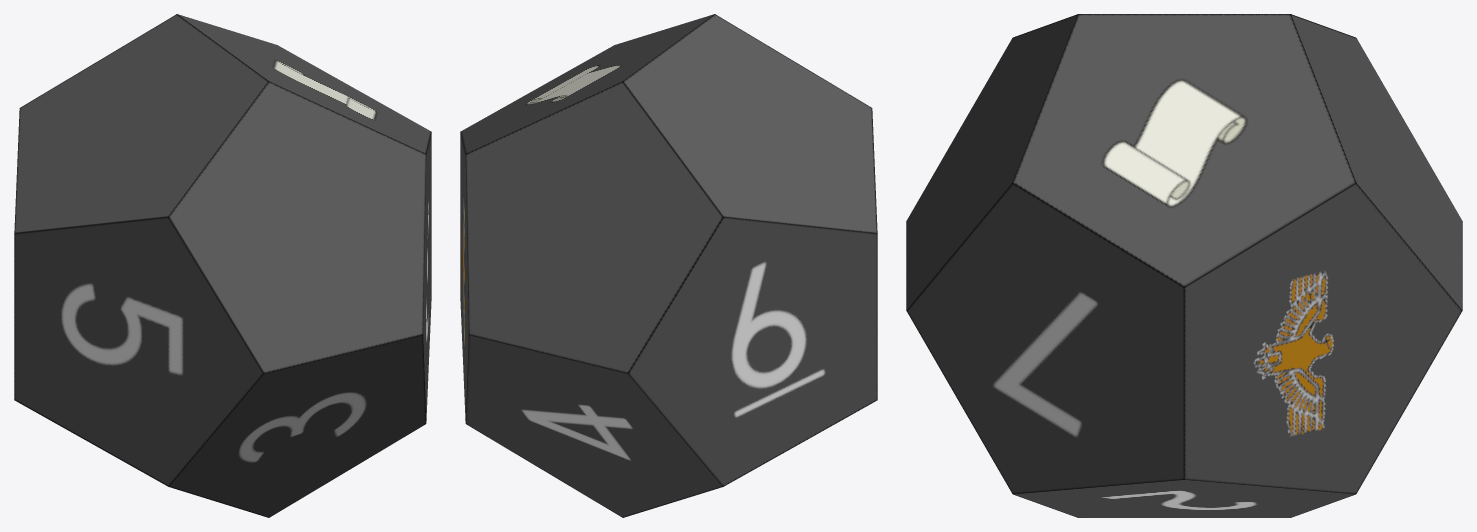
Rendered from Dice_Textured 1.glb.
The picture shows the model from 3 angles, left to right: view 1: azimuth 30°, elevation 25°; view 2: azimuth 150°, elevation 25°; view 3: azimuth 270°, elevation 25°; orthographic projection. The views are drawn at different scales.
Visible parts, largest first — view 1: d12; view 2: d12; view 3: d12.
Boxes of the visible parts, left/top/right/bottom form: d12: left=14, top=14, right=431, bottom=517; d12: left=460, top=14, right=877, bottom=517; d12: left=906, top=14, right=1462, bottom=517.
Bounding box in the file's own units: 1.87 × 1.87 × 1.87.
1 material, 1 textured.
